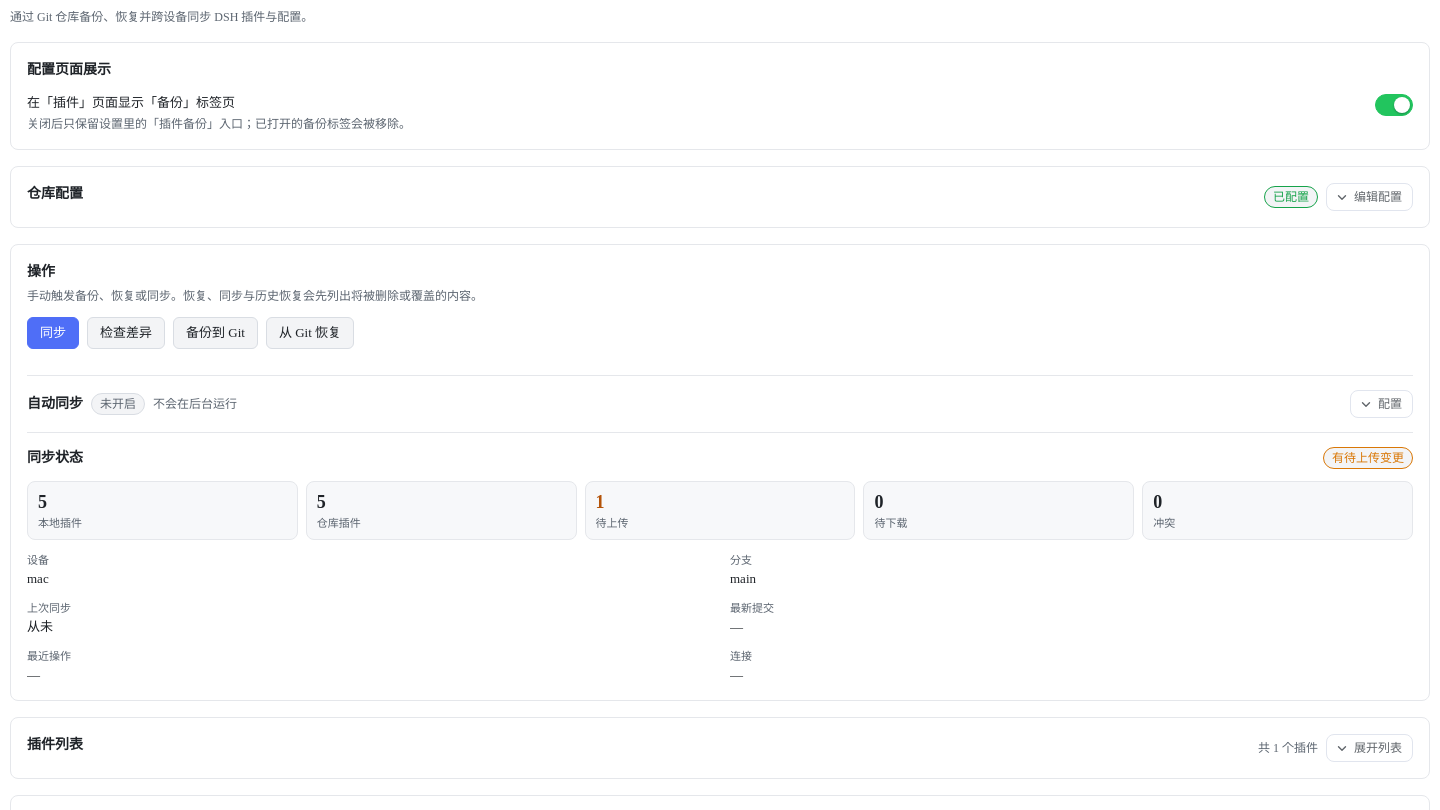
settings page render › syncs directly when the plan needs no decision
Step 1. Click the button "同步" → (53, 333), box [27,317,79,349]
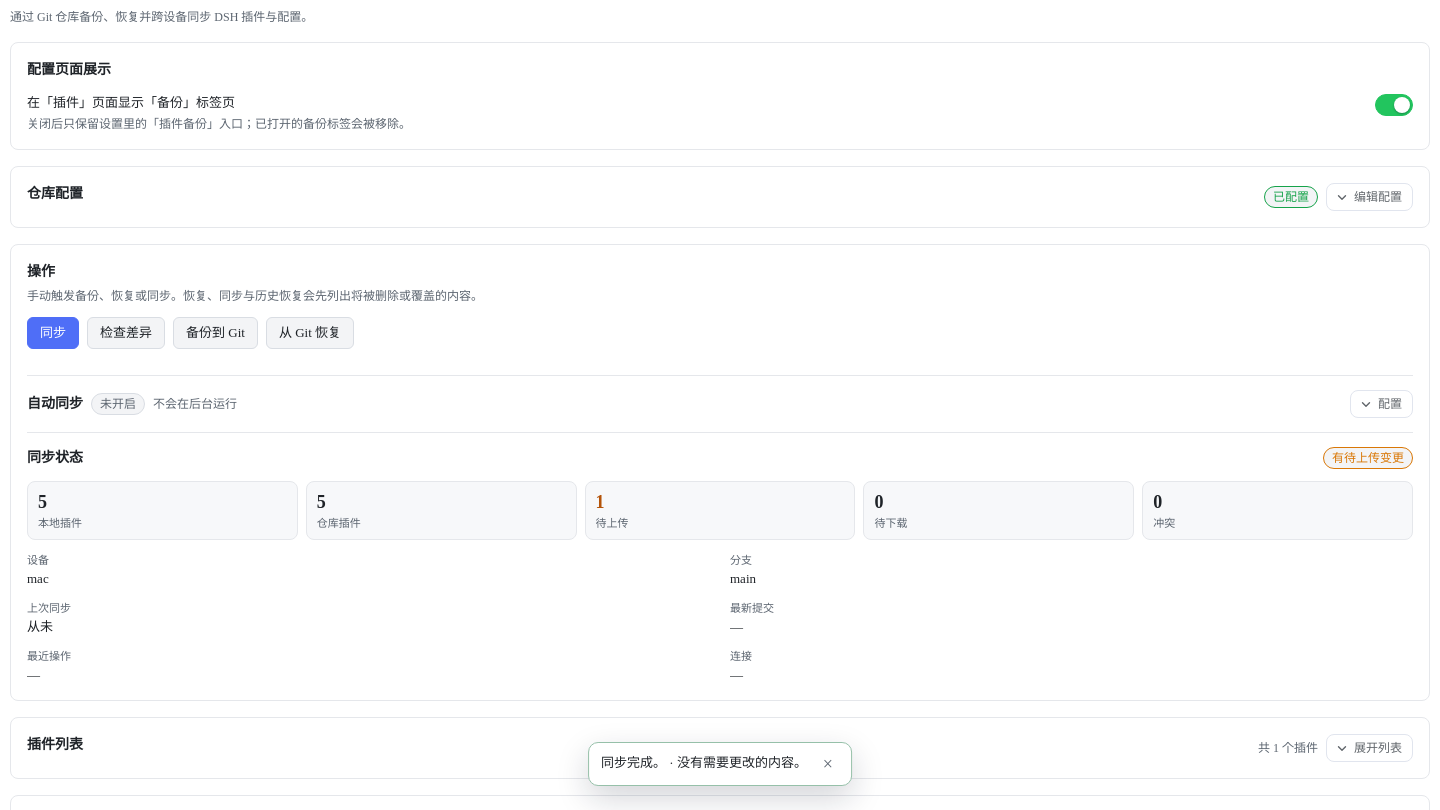
Check: the text "同步完成" is shown, box [601,755,807,770]
